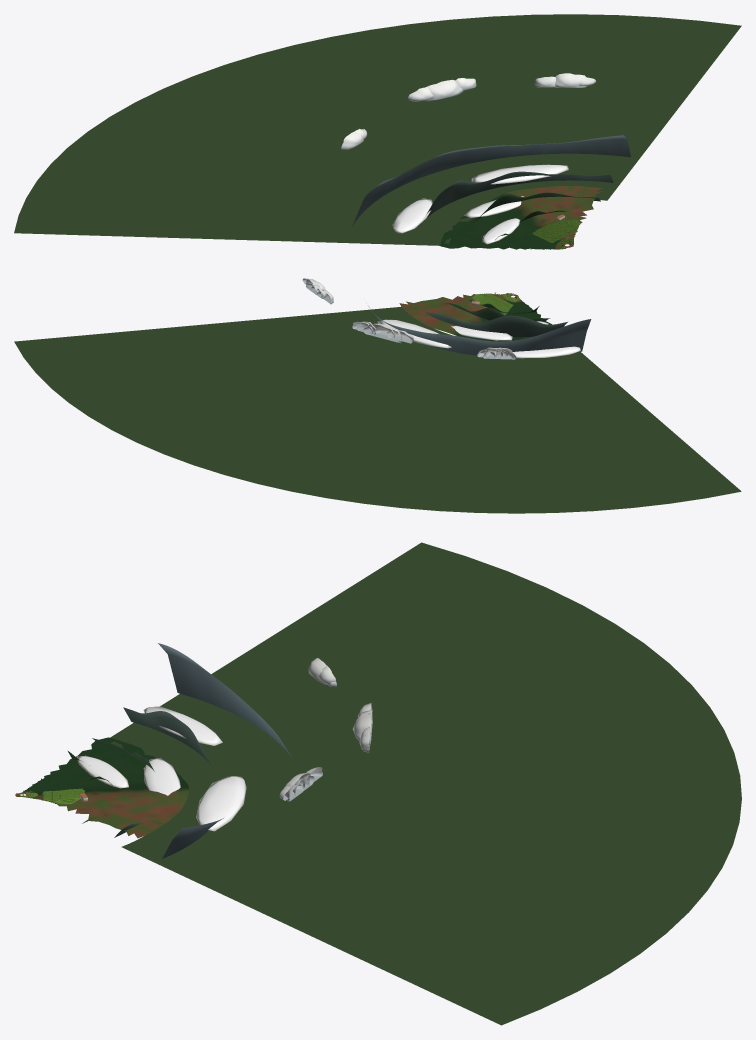
The model's file is arena_pahang.glb.
3 renders of one model, top to bottom at view 1: azimuth 30°, elevation 25°; view 2: azimuth 150°, elevation 25°; view 3: azimuth 270°, elevation 25°, orthographic. The views are drawn at different scales.
Visible parts, largest first — view 1: EnvFar_MatGround_redsoil, EnvFar_MatRock_stone, EnvFar_MatCloth_mist, EnvFar_MatLeaf_tea; view 2: EnvFar_MatGround_redsoil, EnvFar_MatRock_stone, EnvFar_MatCloth_mist, EnvFar_MatLeaf_tea; view 3: EnvFar_MatGround_redsoil, EnvFar_MatCloth_mist, EnvFar_MatRock_stone.
Part boxes in pixels (left/top/right/bottom): EnvFar_MatGround_redsoil: left=14, top=14, right=741, bottom=249; EnvFar_MatRock_stone: left=351, top=135, right=630, bottom=239; EnvFar_MatCloth_mist: left=341, top=73, right=596, bottom=244; EnvFar_MatLeaf_tea: left=532, top=219, right=580, bottom=242; EnvFar_MatGround_redsoil: left=14, top=293, right=741, bottom=513; EnvFar_MatRock_stone: left=368, top=300, right=591, bottom=355; EnvFar_MatCloth_mist: left=302, top=278, right=580, bottom=359; EnvFar_MatLeaf_tea: left=472, top=292, right=513, bottom=315; EnvFar_MatGround_redsoil: left=25, top=542, right=741, bottom=1025; EnvFar_MatCloth_mist: left=76, top=658, right=372, bottom=831; EnvFar_MatRock_stone: left=68, top=643, right=291, bottom=858.
Bounding box in the file's own units: 1729 × 151 × 1101.
